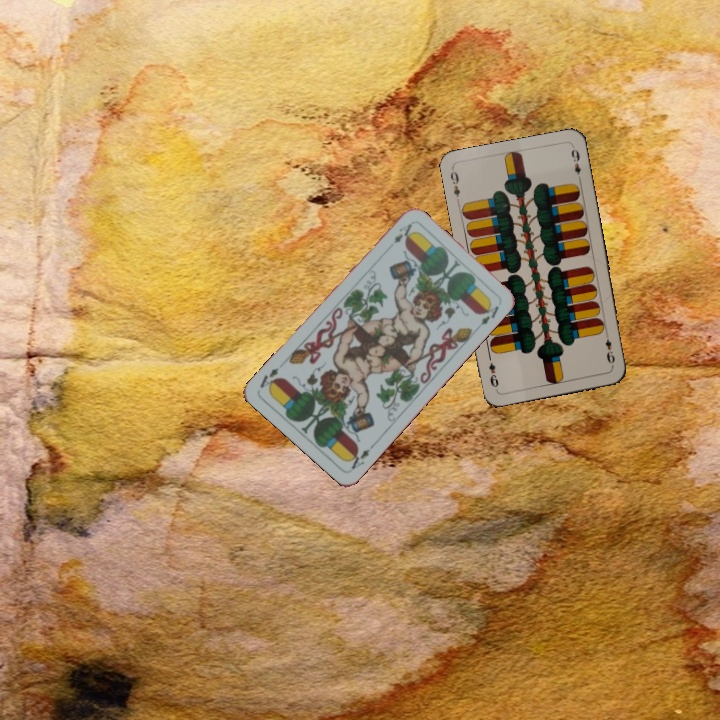E9: (446, 165, 462, 206), (601, 329, 618, 366)
EA: (343, 439, 377, 472), (383, 219, 415, 253)
